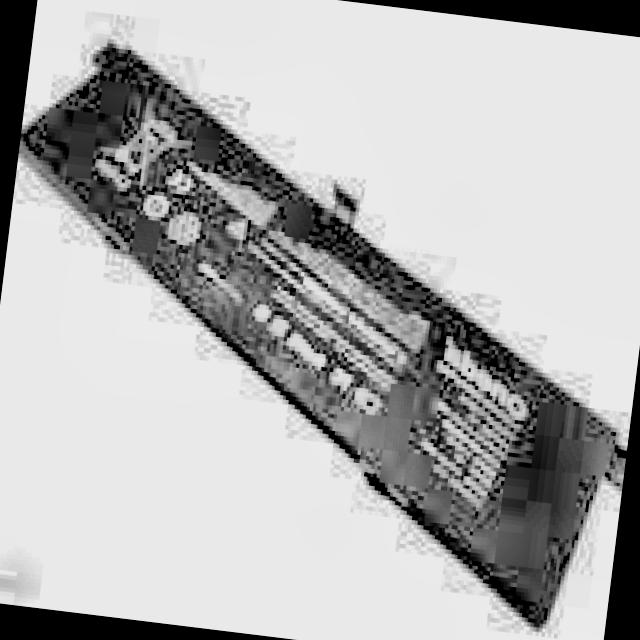Battery: (0, 37, 640, 633)
